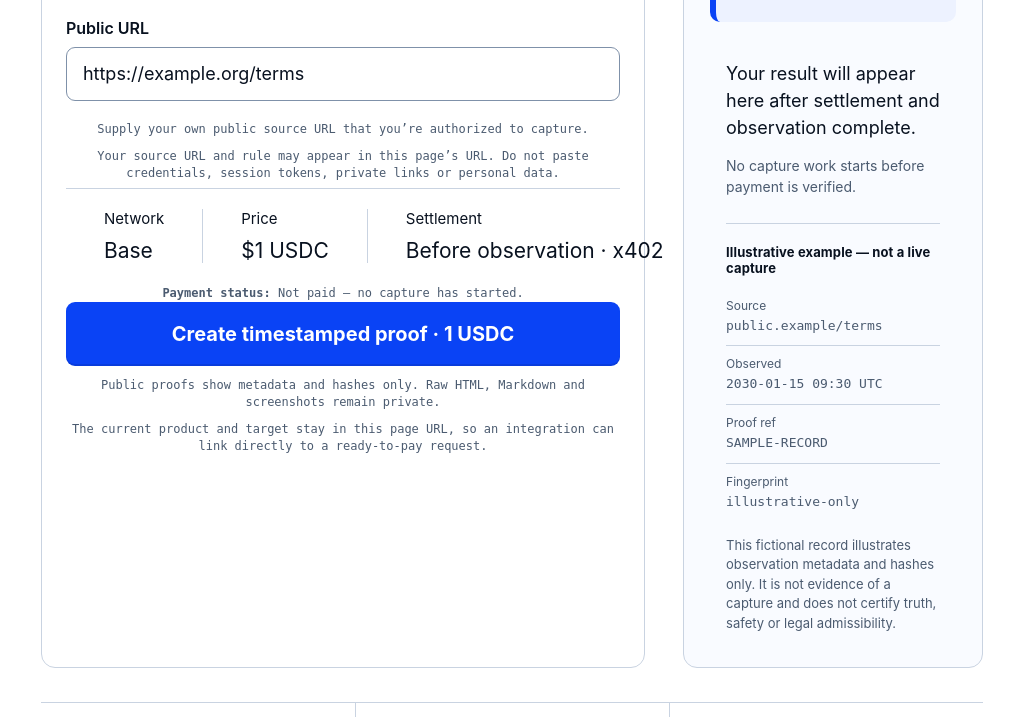
Test case: Base app incomplete paid requests › restores an unresolved attempt after remount without paying again
(page scrolled)
Click the button "Create timestamped proof · 1 USDC".
click(343, 334)  # box [66,302,620,366]
(page scrolled)
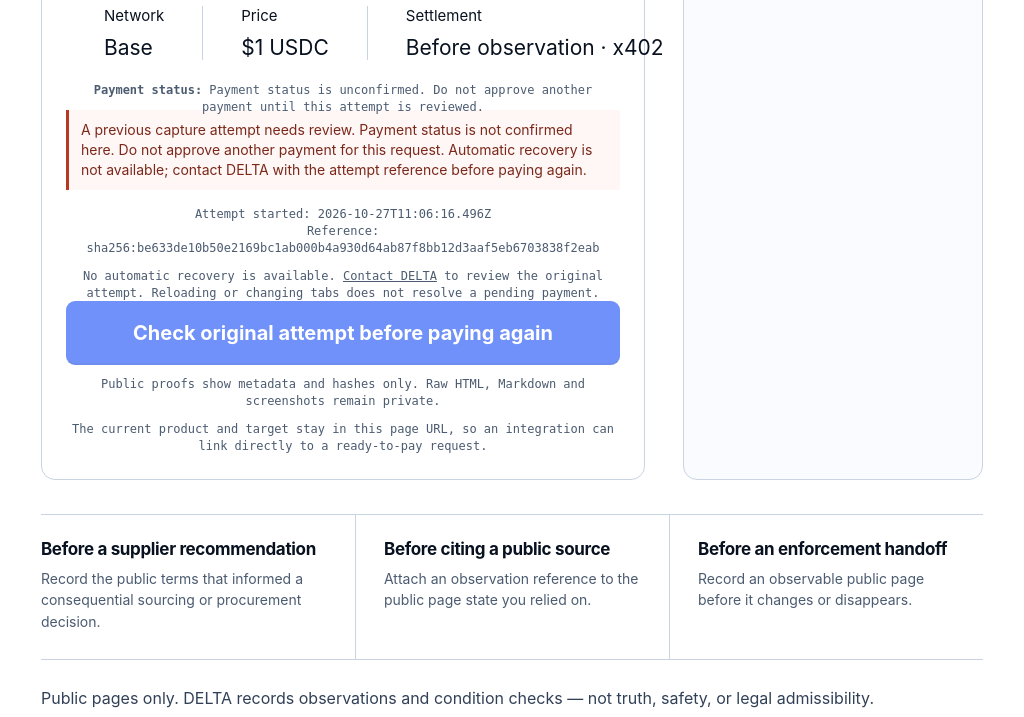
expect the button "Check original attempt before paying again" is disabled: met, box [66,301,620,365]
expect the text "previous capture attempt" is shown: met, box [81,120,592,178]
expect the element with class "sample-proof" is gone: met
